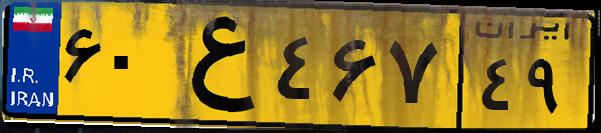0: (110, 28, 158, 98)
4: (270, 28, 330, 110), (475, 38, 525, 113)
6: (330, 28, 385, 110), (57, 26, 110, 100)
7: (385, 28, 445, 110)
9: (525, 38, 570, 115)
ع: (158, 12, 270, 120)
